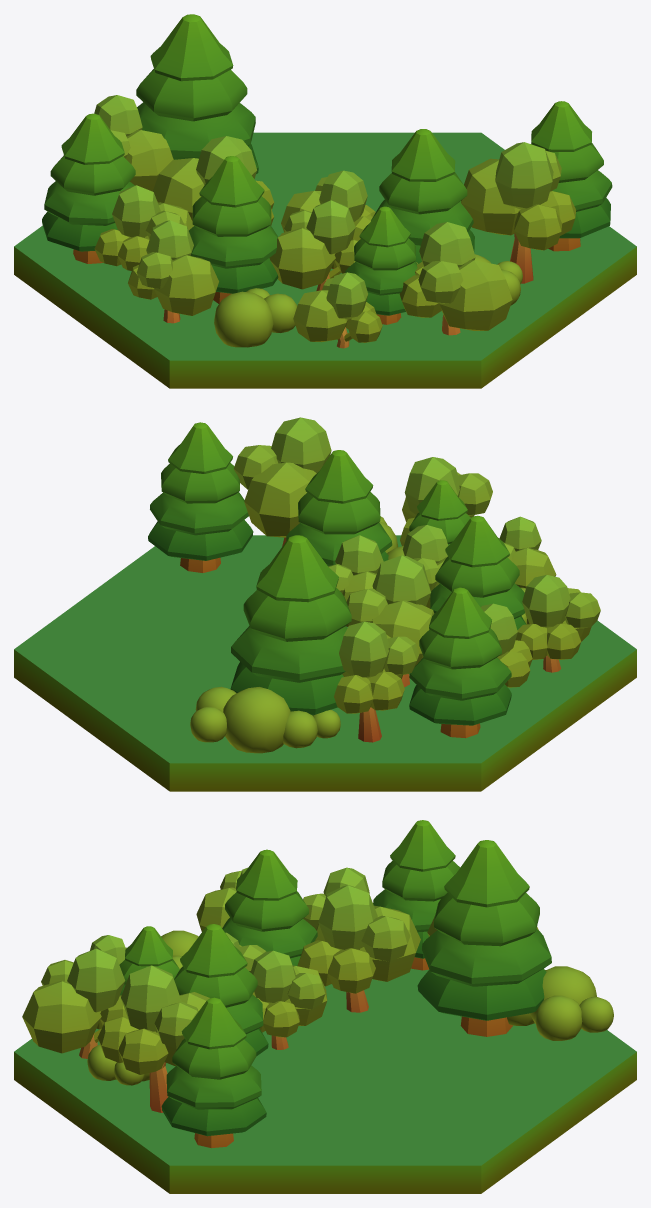
The model's file is hex1.fbx.
3 renders of one model, top to bottom at view 1: azimuth 30°, elevation 25°; view 2: azimuth 150°, elevation 25°; view 3: azimuth 270°, elevation 25°, orthographic.
Parts seen in each view (by area): view 1: hex_forest_grass; view 2: hex_forest_grass; view 3: hex_forest_grass.
Part boxes in pixels (x1,y1,x2,y2): hex_forest_grass: (14, 14, 636, 388); hex_forest_grass: (14, 417, 636, 791); hex_forest_grass: (14, 820, 636, 1193).
Size of the model in its own units: 173 by 75.93 by 200.
